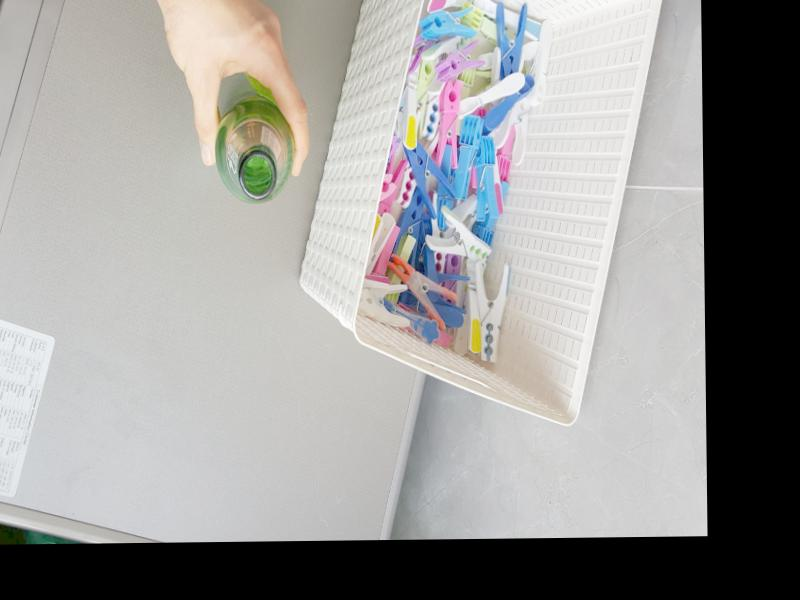Beer: (214, 91, 294, 204)
